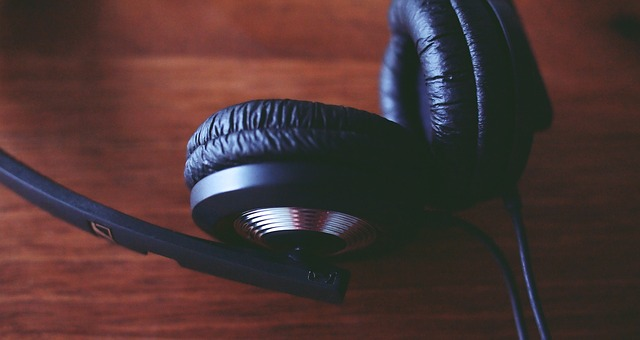headphones: (1, 1, 554, 306)
